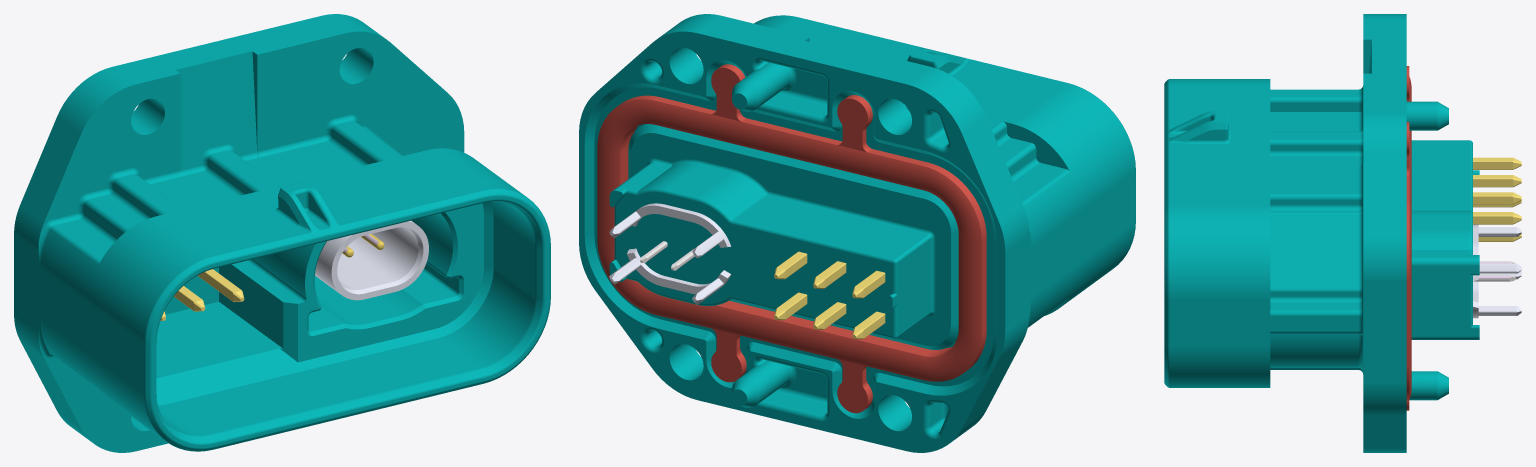
The model's file is Rosenberger___mps113_400xx_z_210201_LV_info.gltf.
The picture shows the model from 3 angles, left to right: view 1: azimuth 30°, elevation 25°; view 2: azimuth 150°, elevation 25°; view 3: azimuth 270°, elevation 25°; orthographic projection. The views are drawn at different scales.
Parts seen in each view (by area): view 1: mesh17650, mesh17773, mesh17874, mesh17611, mesh17633, mesh17485, mesh17652, mesh17906, mesh17902, mesh17901, mesh17872, mesh17638 (+43 smaller); view 2: mesh17345, mesh18158, mesh17989, mesh17611, mesh17485, mesh17743, mesh17773, mesh17714, mesh18043, mesh17638, mesh17769, mesh17503 (+49 smaller); view 3: mesh17773, mesh17591, mesh17598, mesh17585, mesh17468, mesh18016, mesh17514, mesh18043, mesh17638, mesh17470, mesh17573, mesh17661 (+29 smaller).
Boxes of the visible parts, <box> form: mesh17650: <box>40,31,464,452</box>; mesh17773: <box>119,121,481,256</box>; mesh17874: <box>169,338,478,433</box>; mesh17611: <box>40,216,212,344</box>; mesh17633: <box>40,73,180,232</box>; mesh17485: <box>14,234,144,394</box>; mesh17652: <box>176,51,257,169</box>; mesh17906: <box>298,203,483,362</box>; mesh17902: <box>156,301,282,378</box>; mesh17901: <box>159,329,438,403</box>; mesh17872: <box>439,267,534,368</box>; mesh17638: <box>112,15,345,84</box>; mesh17345: <box>579,31,1005,452</box>; mesh18158: <box>616,192,892,336</box>; mesh17989: <box>631,133,950,345</box>; mesh17611: <box>1012,83,1135,246</box>; mesh17485: <box>1005,172,1135,331</box>; mesh17743: <box>654,101,923,189</box>; mesh17773: <box>781,17,1066,128</box>; mesh17714: <box>654,293,923,379</box>; mesh18043: <box>735,196,926,258</box>; mesh17638: <box>698,15,930,84</box>; mesh17769: <box>866,117,994,395</box>; mesh17503: <box>1028,221,1135,327</box>; mesh17773: <box>1169,85,1359,205</box>; mesh17591: <box>1169,205,1270,300</box>; mesh17598: <box>1270,215,1358,288</box>; mesh17585: <box>1169,301,1358,346</box>; mesh17468: <box>1363,282,1406,382</box>; mesh18016: <box>1411,266,1479,336</box>; mesh17514: <box>1169,346,1270,387</box>; mesh18043: <box>1411,140,1469,210</box>; mesh17638: <box>1363,20,1406,112</box>; mesh17470: <box>1363,151,1406,234</box>; mesh17573: <box>1270,334,1358,367</box>; mesh17661: <box>1270,156,1358,186</box>.
Size of the model in its own units: 0.0277 by 0.0228 by 0.0221.
